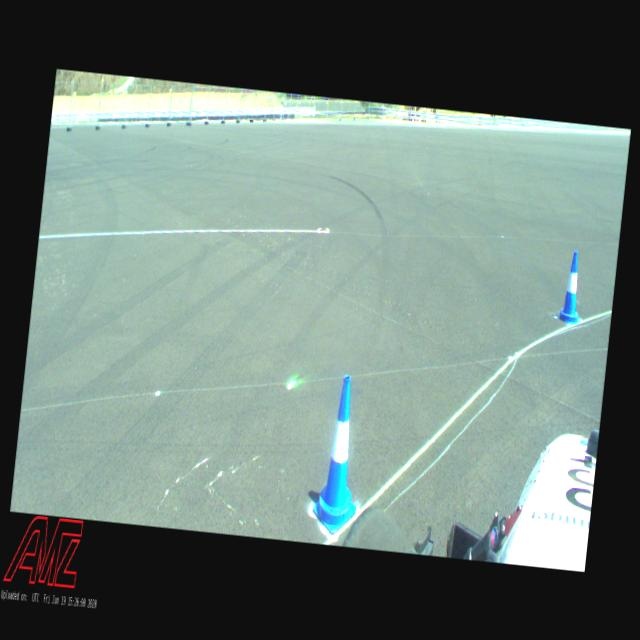blue_cone: (310, 374, 370, 536), (557, 250, 587, 324)
